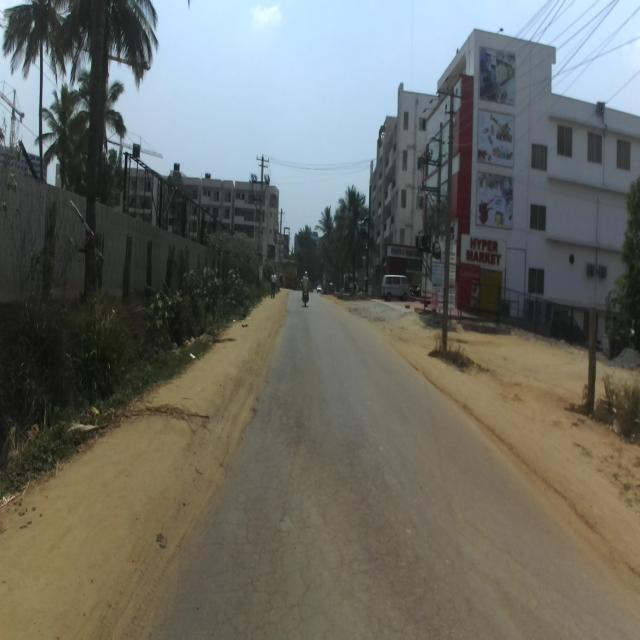electric pole ahead at: (433, 76, 472, 372)
